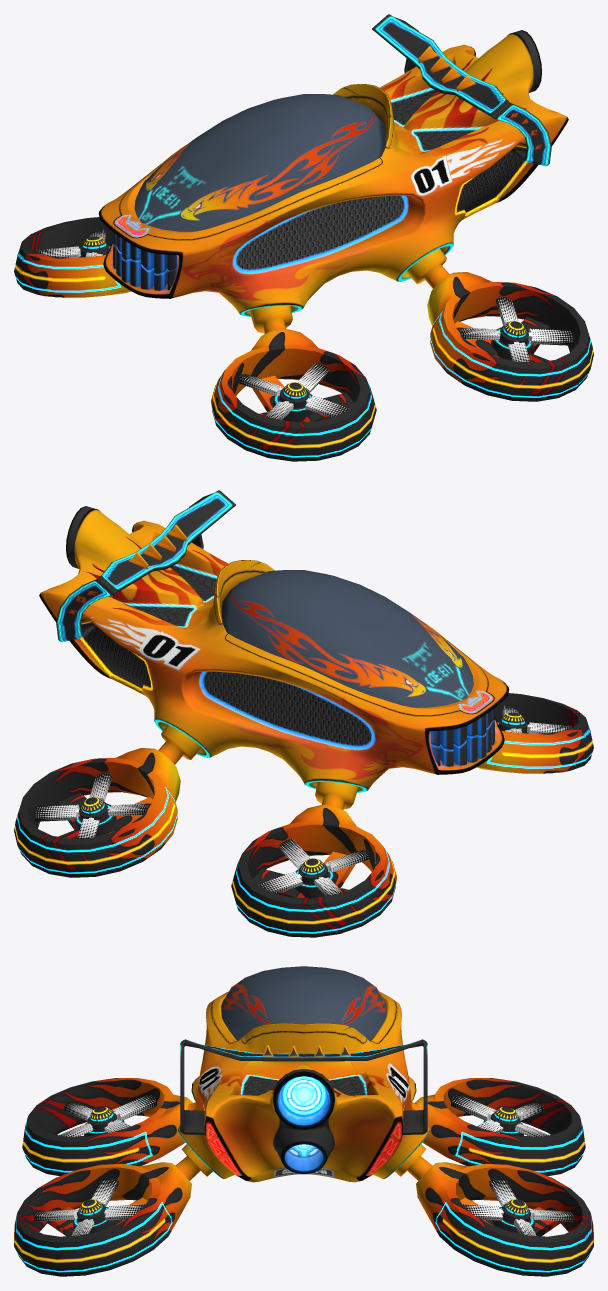
The model's file is 飞行器.glb.
3 views of the same model, one above another, from view 1: azimuth 30°, elevation 25°; view 2: azimuth 150°, elevation 25°; view 3: azimuth 270°, elevation 25° (orthographic).
Visible parts, largest first — view 1: body1_Low, 1Wheel_Low, body6_Low, body7_Low, body8_Low, 3Wheel_Low.001, 2Wheel_Low.001, 4Wheel_Low, 5Wheel_Low, 2Wheel_Low; view 2: body1_Low, 1Wheel_Low, body6_Low, body7_Low, body8_Low, 3Wheel_Low, 2Wheel_Low, 4Wheel_Low.001, 5Wheel_Low.001, 2Wheel_Low.001; view 3: 1Wheel_Low, body1_Low, body6_Low, body7_Low, 3Wheel_Low, 3Wheel_Low.001, 2Wheel_Low, 2Wheel_Low.001, 5Wheel_Low, 5Wheel_Low.001, 4Wheel_Low, 4Wheel_Low.001.
Boxes of the visible parts, bbox=[...] form: body1_Low: bbox=[98, 30, 568, 316]; 1Wheel_Low: bbox=[14, 217, 593, 461]; body6_Low: bbox=[134, 94, 385, 231]; body7_Low: bbox=[372, 14, 551, 166]; body8_Low: bbox=[113, 232, 176, 290]; 3Wheel_Low.001: bbox=[456, 296, 574, 362]; 2Wheel_Low.001: bbox=[238, 363, 349, 420]; 4Wheel_Low: bbox=[272, 382, 313, 422]; 5Wheel_Low: bbox=[491, 321, 533, 360]; 2Wheel_Low: bbox=[35, 229, 110, 257]; body1_Low: bbox=[39, 506, 509, 792]; 1Wheel_Low: bbox=[14, 693, 593, 937]; body6_Low: bbox=[222, 570, 473, 707]; body7_Low: bbox=[56, 490, 235, 642]; body8_Low: bbox=[431, 708, 494, 766]; 3Wheel_Low: bbox=[33, 772, 151, 838]; 2Wheel_Low: bbox=[258, 839, 369, 896]; 4Wheel_Low.001: bbox=[294, 858, 335, 898]; 5Wheel_Low.001: bbox=[74, 797, 116, 836]; 2Wheel_Low.001: bbox=[497, 705, 572, 733]; 1Wheel_Low: bbox=[14, 1078, 593, 1276]; body1_Low: bbox=[178, 991, 429, 1182]; body6_Low: bbox=[221, 966, 386, 1040]; body7_Low: bbox=[180, 1039, 427, 1134]; 3Wheel_Low: bbox=[462, 1178, 574, 1235]; 3Wheel_Low.001: bbox=[33, 1178, 145, 1235]; 2Wheel_Low: bbox=[451, 1095, 548, 1136]; 2Wheel_Low.001: bbox=[59, 1095, 156, 1136]; 5Wheel_Low: bbox=[72, 1199, 115, 1233]; 5Wheel_Low.001: bbox=[492, 1199, 535, 1233]; 4Wheel_Low: bbox=[83, 1107, 124, 1136]; 4Wheel_Low.001: bbox=[483, 1107, 524, 1136].
Size of the model in its own units: 3.89 by 2.24 by 4.72.
Materials: 2 (2 with a texture image).
